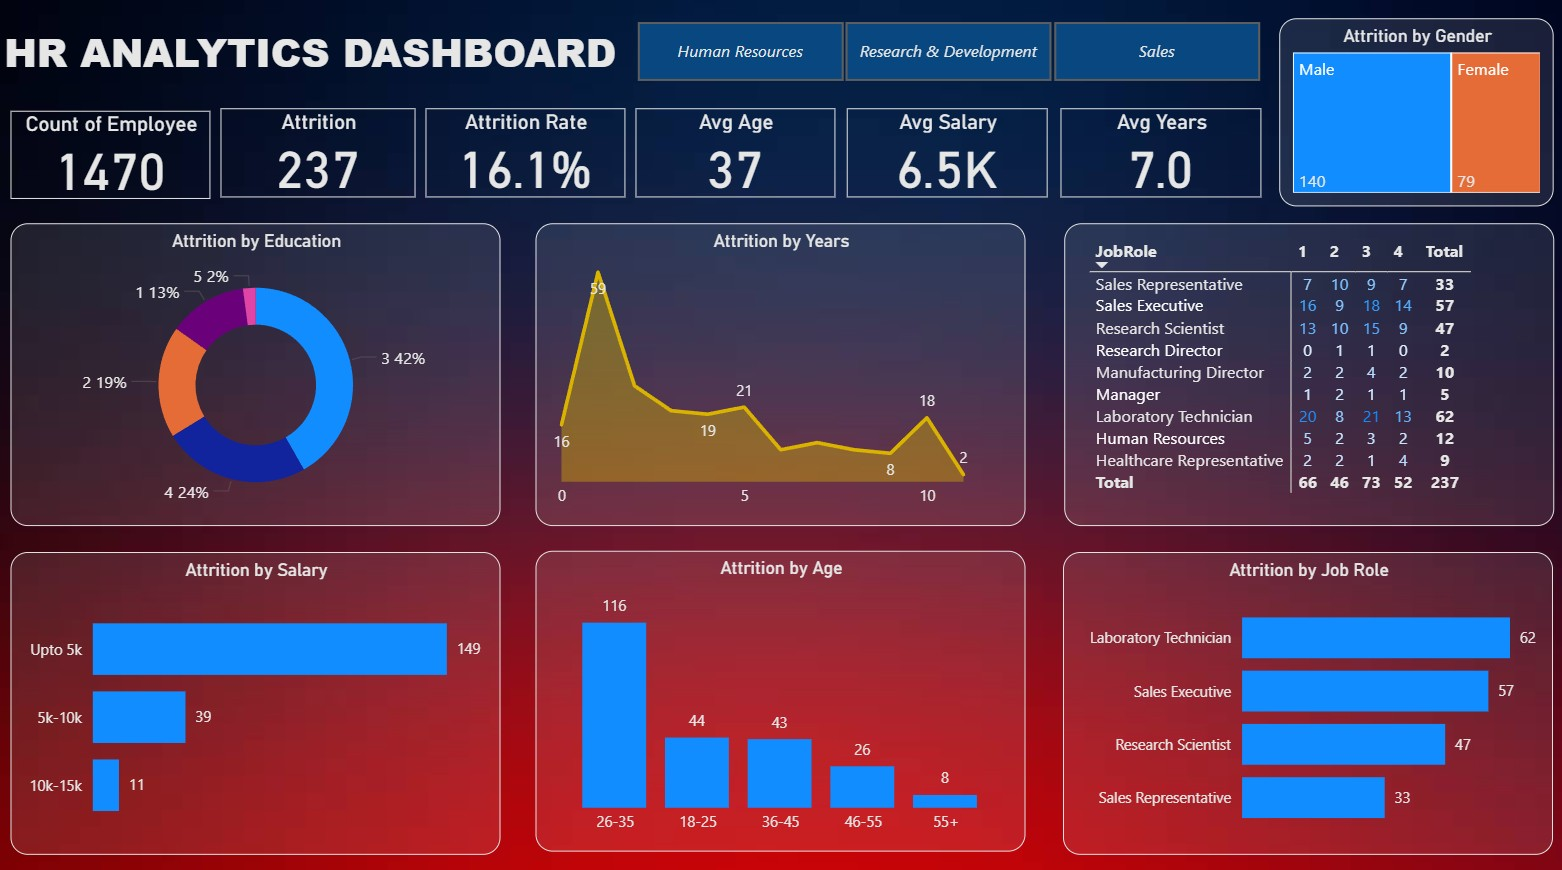

The page's visual inventory and layout, read from the dashboard file:
{"tool":"powerbi","page":{"name":"Page 1","canvas":[1280,720],"ordinal":0},"visuals":[{"type":"card","title":"Count of Employee","fields":{"Values":["CountNonNull(HR_Analytics.EmpID)"]},"box":[10.1,92.6,163.5,72.3],"z":0},{"type":"card","title":"Avg Age","fields":{"Values":["Avg(HR_Analytics.Age)"]},"box":[520.4,91.2,162.9,72.9],"z":1000},{"type":"card","title":"Attrition Rate","fields":{"Values":["HR_Analytics.Attrtion Rate"]},"box":[348.9,91.2,162.9,72.9],"z":2000},{"type":"card","title":"Attririon ","fields":{"Values":["Sum(HR_Analytics.AttritionCount)"]},"box":[181.2,91.2,159.3,72.9],"z":3000},{"type":"card","title":"Avg Years","fields":{"Values":["Avg(HR_Analytics.YearsAtCompany)"]},"box":[867,91.2,164.1,72.9],"z":4000},{"type":"card","title":"Avg Salary","fields":{"Values":["Avg(HR_Analytics.MonthlyIncome)"]},"box":[693,91.2,164.1,72.9],"z":5000},{"type":"donutChart","title":"Attrition by Education","fields":{"Category":["HR_Analytics.Education"],"Y":["Sum(HR_Analytics.AttritionCount)"]},"box":[9.7,184.8,400,246.8],"z":6000},{"type":"columnChart","title":"Attrition by Age","fields":{"Category":["HR_Analytics.AgeGroup"],"Y":["Sum(HR_Analytics.AttritionCount)"]},"box":[438.9,452.3,400,245.6],"z":7000},{"type":"pivotTable","fields":{"Rows":["HR_Analytics.JobRole"],"Columns":["HR_Analytics.JobSatisfaction"],"Values":["Sum(HR_Analytics.AttritionCount)"]},"box":[870.5,184.8,400,246.8],"z":8000},{"type":"barChart","title":"Attrition by Age","fields":{"Category":["HR_Analytics.JobRole"],"Y":["Sum(HR_Analytics.AttritionCount)"]},"box":[869.3,453.5,400,246.8],"z":9000},{"type":"areaChart","title":"Attrition by Age","fields":{"Category":["HR_Analytics.YearsAtCompany"],"Y":["Sum(HR_Analytics.AttritionCount)"]},"box":[438.9,184.8,400,246.8],"z":10000},{"type":"treemap","title":"Attrition by Age","fields":{"Group":["HR_Analytics.Gender"],"Values":["Sum(HR_Analytics.AttritionCount)"]},"box":[1045.9,17.4,224.2,153.3],"z":11000},{"type":"slicer","fields":{"Values":["HR_Analytics.Department"]},"box":[496.1,13.4,558.1,62],"z":12000},{"type":"textbox","box":[0,17.4,538.2,55],"z":13000},{"type":"barChart","title":"Attrition by Age","fields":{"Category":["HR_Analytics.SalarySlab"],"Y":["Sum(HR_Analytics.AttritionCount)"]},"box":[9.7,453.5,400,246.8],"z":14000}]}

Visuals, with their boxes in screenshot pixels (x1, y1, x2, y2), scaled from the page's 1280x720 canvas onto the 1562x870 screenshot:
"Count of Employee" card: box=[12, 112, 212, 199]
"Avg Age" card: box=[635, 110, 834, 198]
"Attrition Rate" card: box=[426, 110, 625, 198]
"Attririon " card: box=[221, 110, 416, 198]
"Avg Years" card: box=[1058, 110, 1258, 198]
"Avg Salary" card: box=[846, 110, 1046, 198]
"Attrition by Education" donutChart: box=[12, 223, 500, 522]
"Attrition by Age" columnChart: box=[536, 547, 1024, 843]
pivotTable - HR_Analytics.JobRole x HR_Analytics.JobSatisfaction: box=[1062, 223, 1550, 522]
"Attrition by Age" barChart: box=[1061, 548, 1549, 846]
"Attrition by Age" areaChart: box=[536, 223, 1024, 522]
"Attrition by Age" treemap: box=[1276, 21, 1550, 206]
slicer - HR_Analytics.Department: box=[605, 16, 1286, 91]
textbox: box=[0, 21, 657, 87]
"Attrition by Age" barChart: box=[12, 548, 500, 846]
